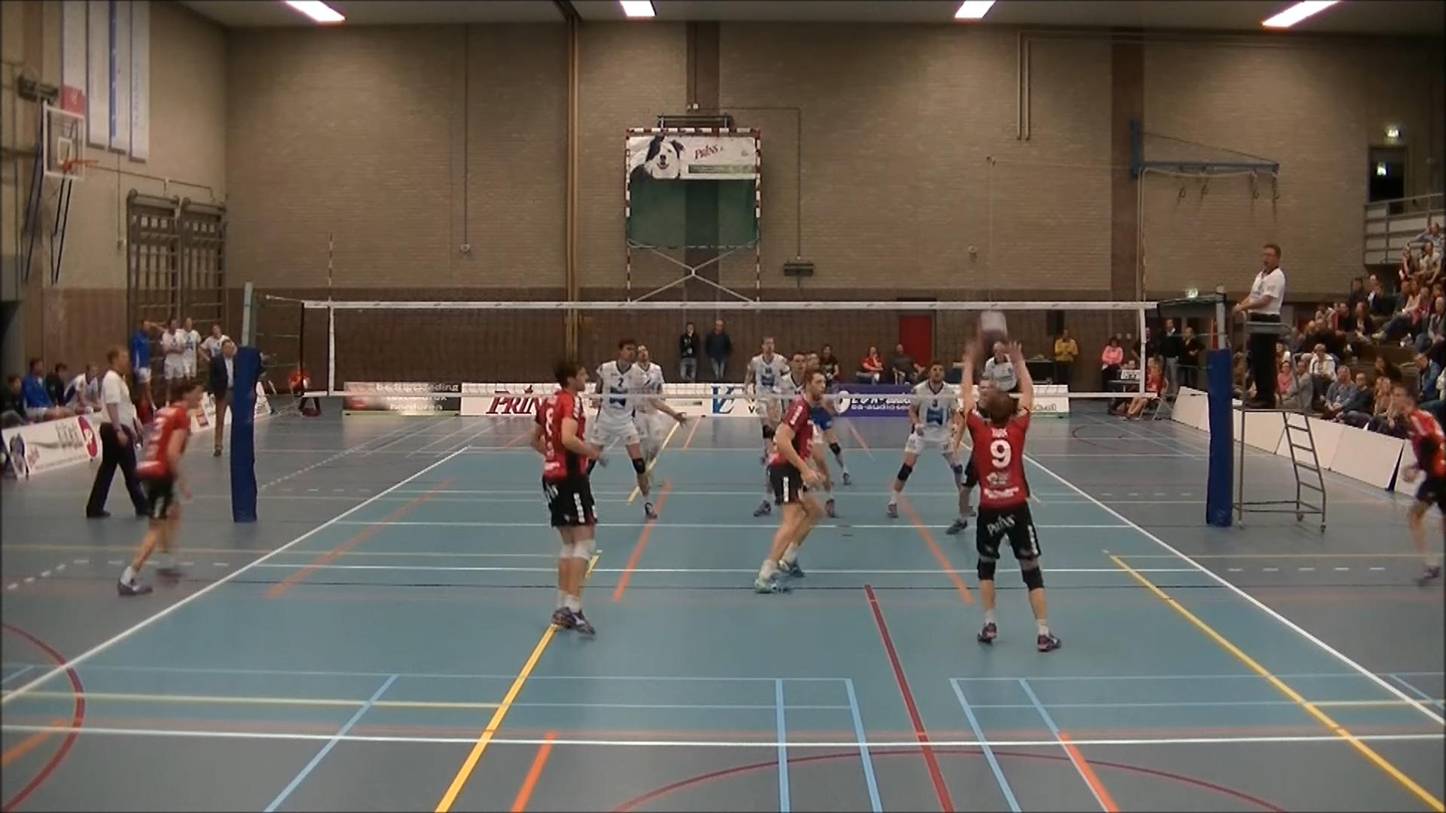Player: (944, 332, 1053, 656), (532, 360, 601, 634), (117, 382, 202, 595), (754, 369, 825, 592), (587, 339, 657, 519), (886, 362, 964, 522), (1393, 384, 1445, 580), (634, 344, 685, 467), (744, 336, 789, 467), (812, 391, 851, 486), (946, 454, 978, 534), (810, 443, 837, 517)
ball: (969, 302, 1013, 343)
